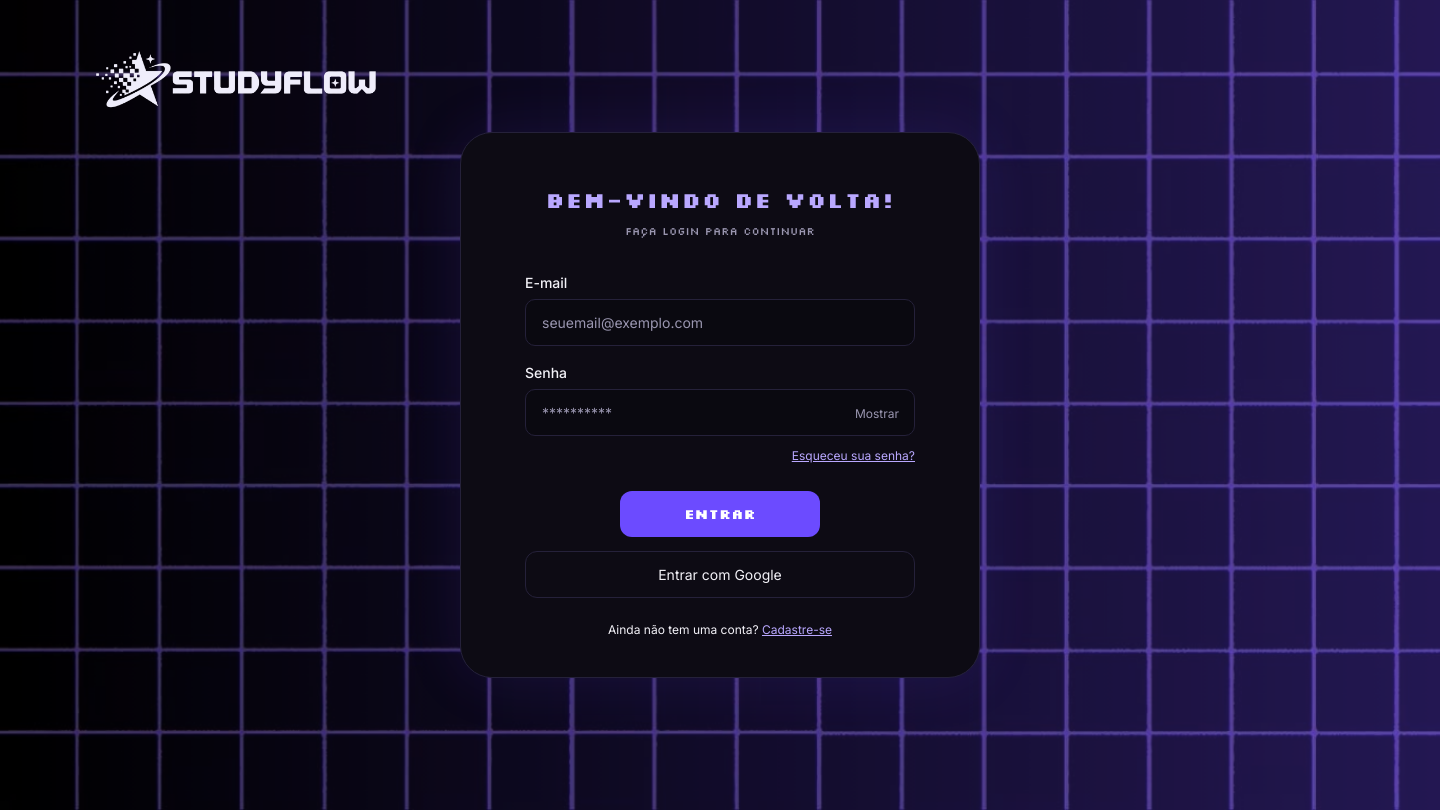
it: LoginPage › mostra erro traduzido e permanece na tela quando o login falha
In the field labelled "E-mail": (720, 322) x1=525 y1=299 x2=915 y2=346, type "a@b.com"
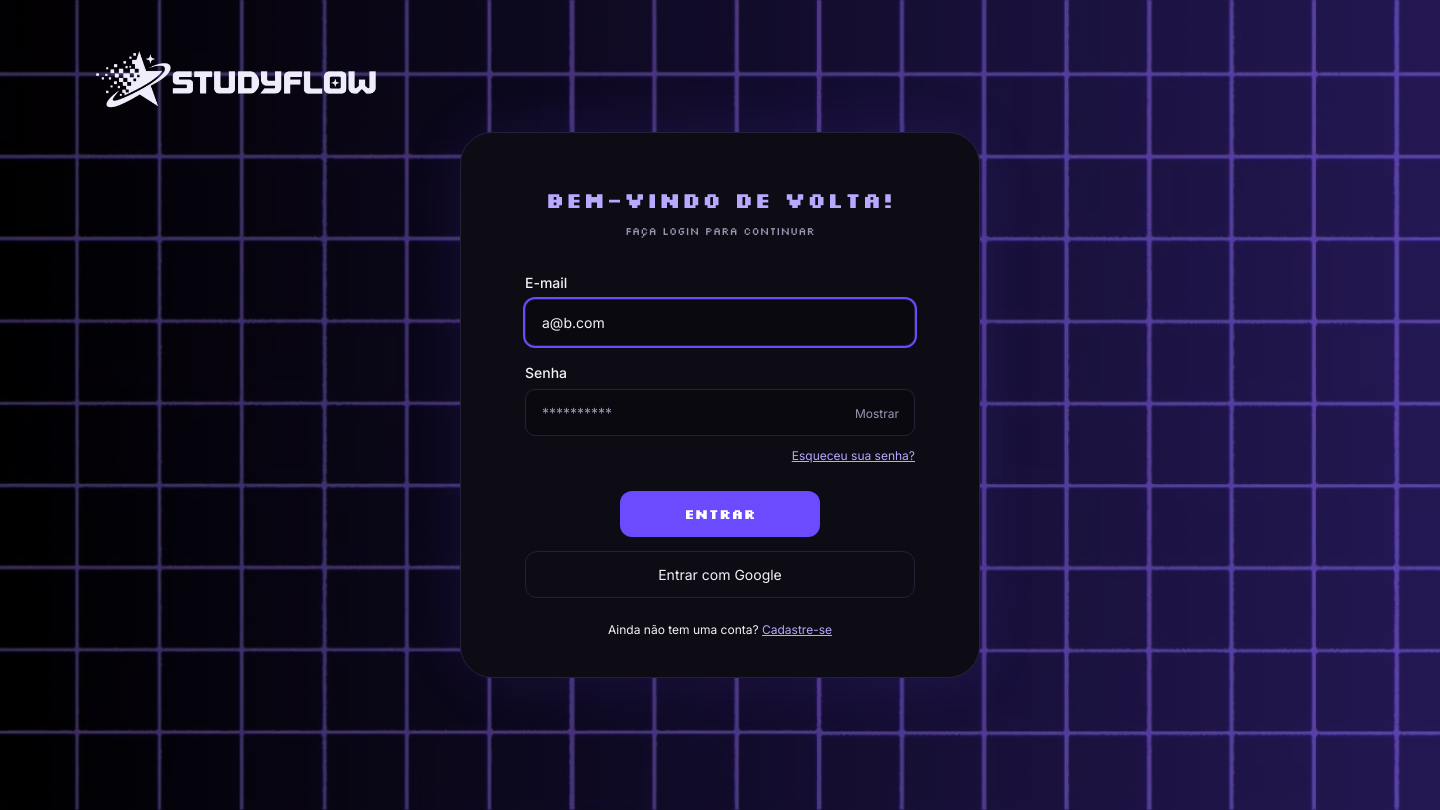
In the password field labelled "Senha": (720, 412) x1=525 y1=389 x2=915 y2=436, type "errada1"
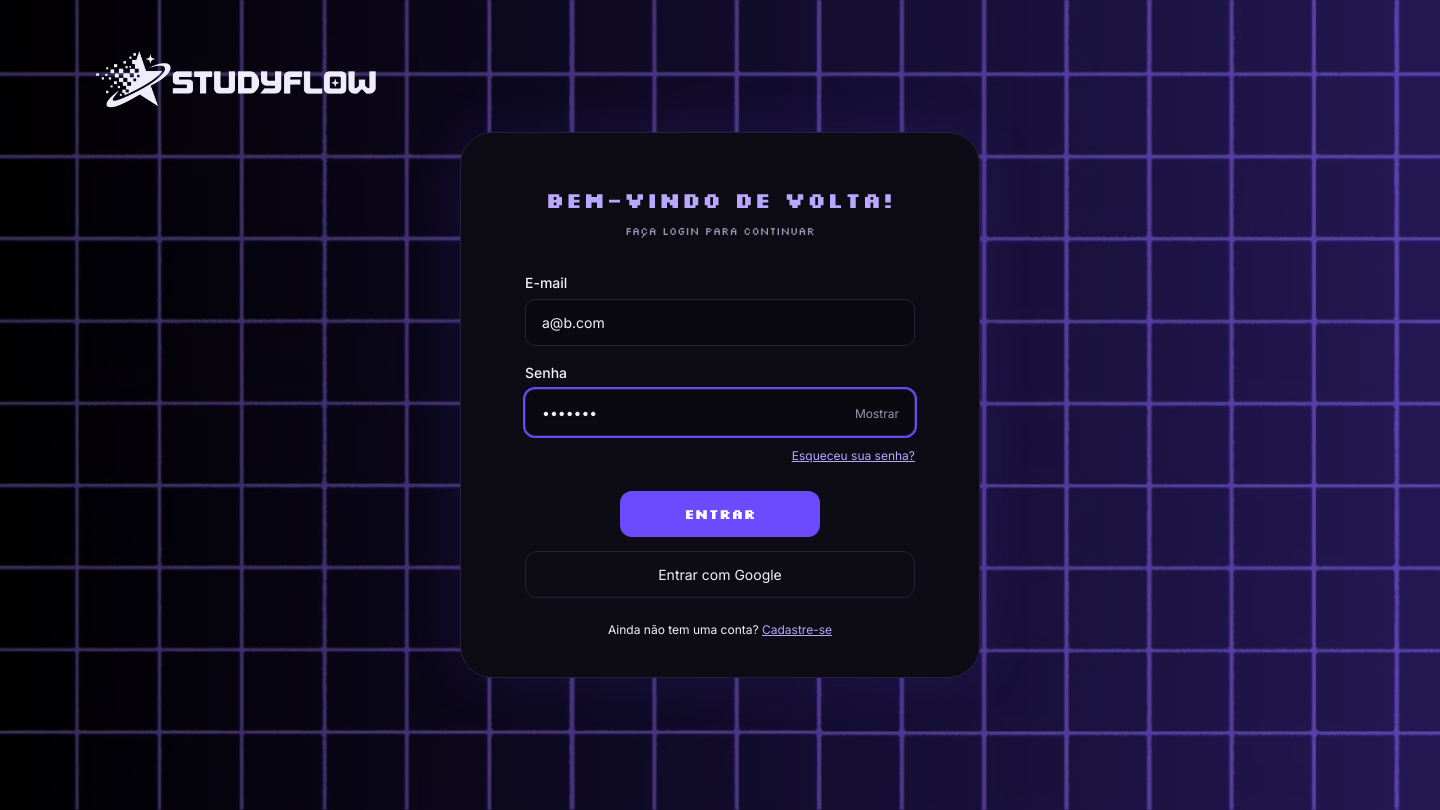
Click the button "Entrar": (720, 514) x1=620 y1=491 x2=820 y2=537
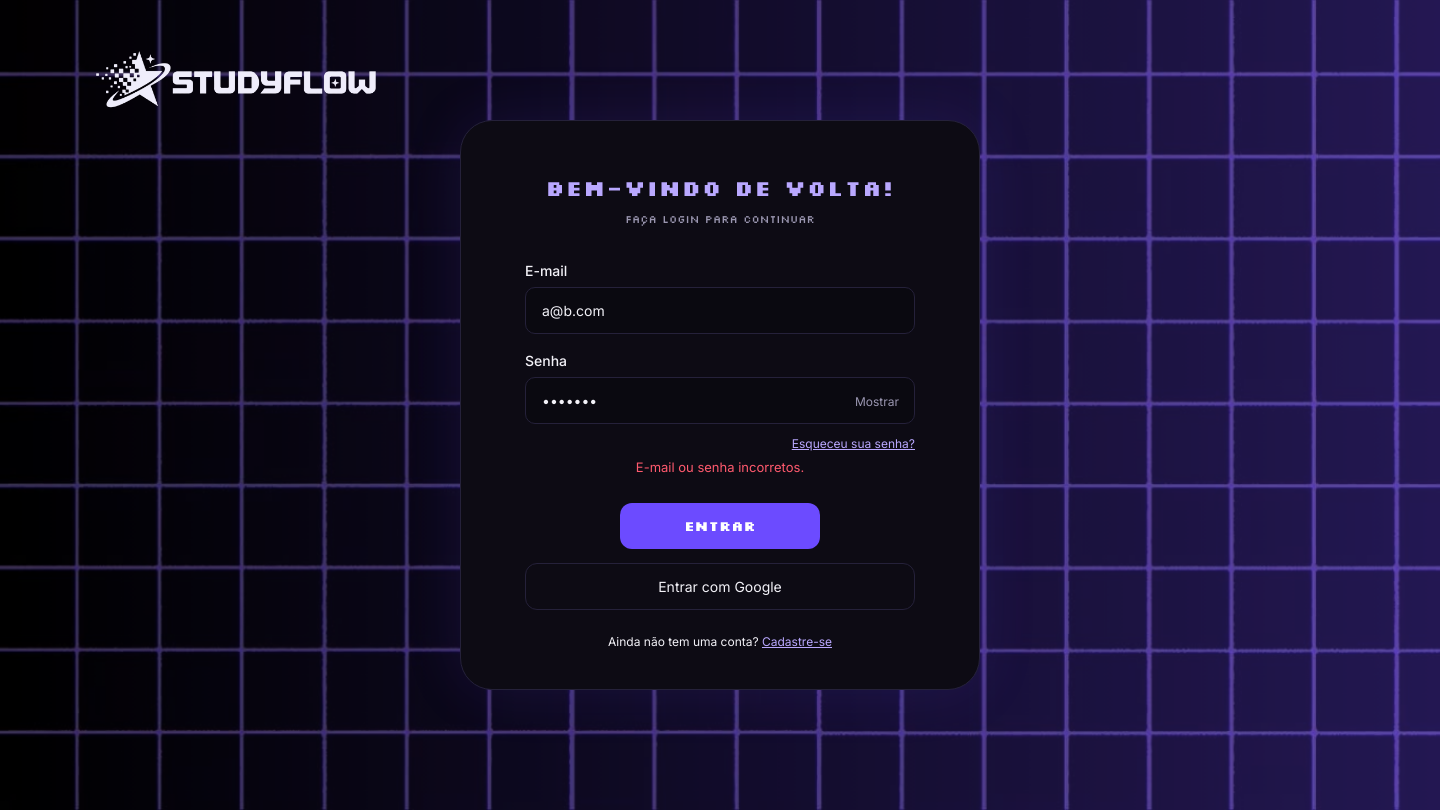
Check: the heading "Bem-vindo de volta!" is shown, box x1=525 y1=173 x2=915 y2=202
Check: the text "E-mail ou senha incorretos." is shown, box x1=636 y1=459 x2=804 y2=475
